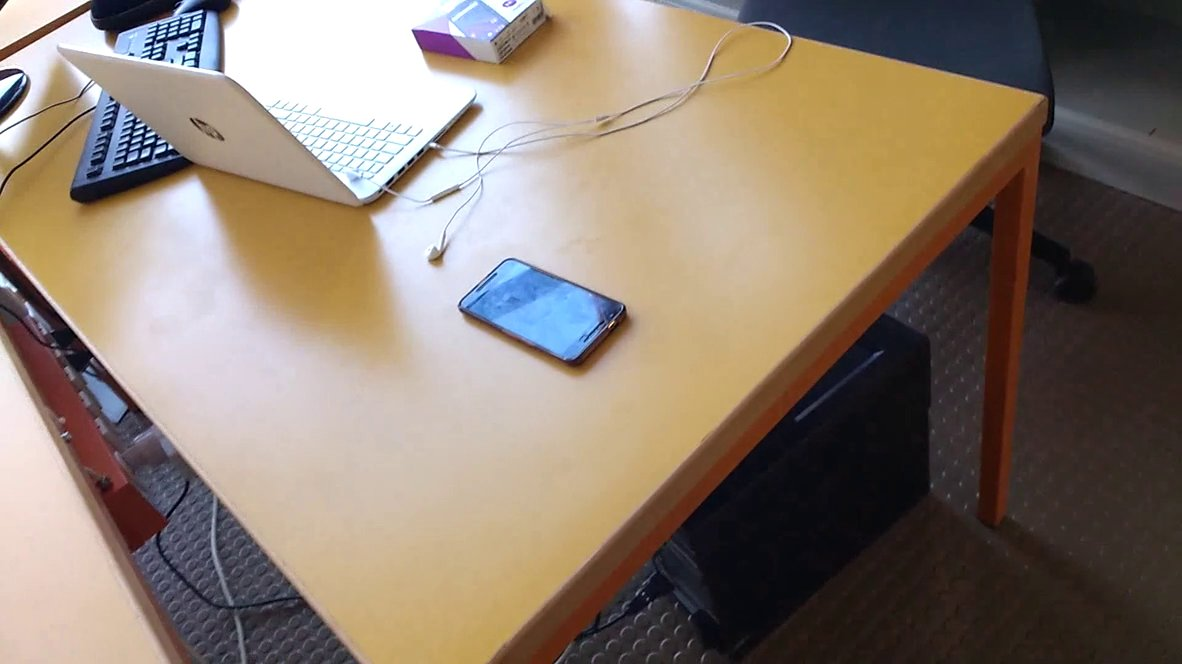laptop: (47, 38, 486, 218)
phone: (455, 254, 643, 382)
